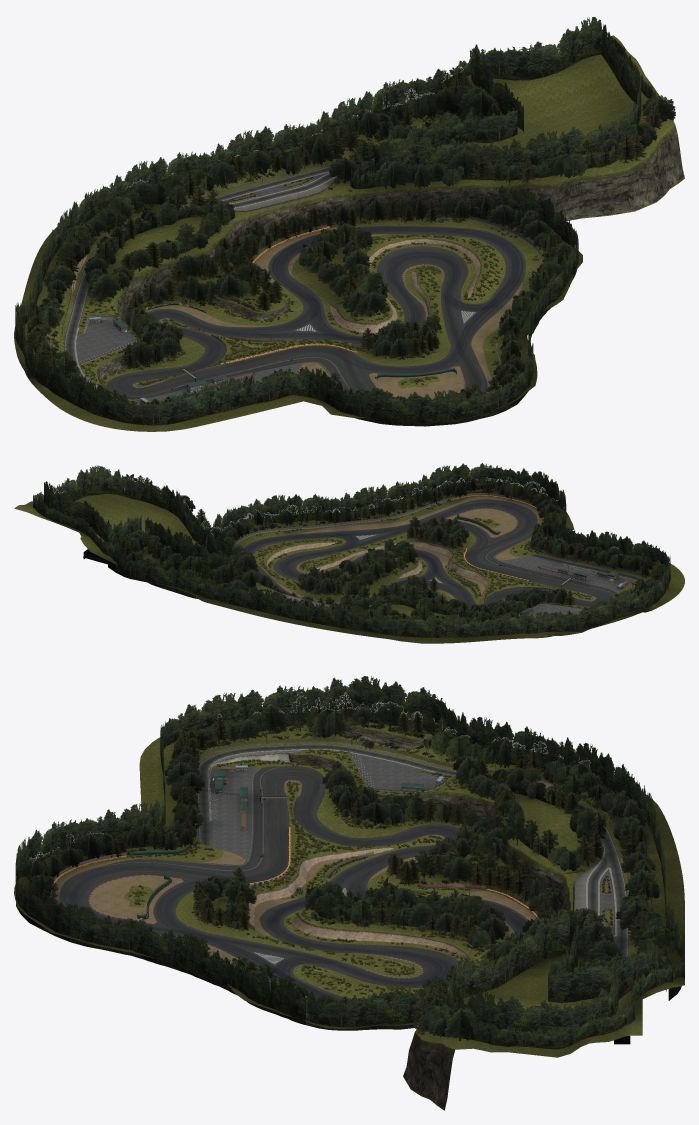
File: track.glb
The picture shows the model from 3 angles, top to bottom: view 1: azimuth 30°, elevation 25°; view 2: azimuth 150°, elevation 25°; view 3: azimuth 270°, elevation 25°; orthographic projection. The views are drawn at different scales.
Parts seen in each view (by area): view 1: cougarct17_DFF, cougarct09_DFF.grass, cougarct11_DFF, cougarct09_DFF, cougarct10_DFF, cougarct13_DFF.skid, cougarct08_DFF, cougarct11_DFF.sand, cougarct00_DFF, cougarct01_DFF, cougarct06_DFF, cougarct13_DFF (+1 smaller); view 2: cougarct17_DFF, cougarct09_DFF.grass, cougarct10_DFF, cougarct13_DFF.skid, cougarct11_DFF.sand, cougarct08_DFF, cougarct11_DFF, cougarct09_DFF, cougarct14_DFF, cougarct12_DFF, cougarct00_DFF, cougarct06_DFF (+1 smaller); view 3: cougarct17_DFF, cougarct09_DFF.grass, cougarct10_DFF, cougarct09_DFF, cougarct13_DFF.skid, cougarct11_DFF, cougarct08_DFF, cougarct11_DFF.sand, cougarct00_DFF, cougarct14_DFF, cougarct13_DFF, cougarct01_DFF.
Boxes of the visible parts, bbox=[...] form: cougarct17_DFF: bbox=[15, 17, 675, 426]; cougarct09_DFF.grass: bbox=[14, 35, 674, 431]; cougarct11_DFF: bbox=[251, 87, 684, 302]; cougarct09_DFF: bbox=[14, 187, 338, 366]; cougarct10_DFF: bbox=[25, 311, 488, 406]; cougarct13_DFF.skid: bbox=[112, 226, 522, 392]; cougarct08_DFF: bbox=[388, 264, 526, 383]; cougarct11_DFF.sand: bbox=[144, 226, 523, 399]; cougarct00_DFF: bbox=[218, 318, 456, 379]; cougarct01_DFF: bbox=[89, 238, 289, 340]; cougarct06_DFF: bbox=[171, 358, 292, 393]; cougarct13_DFF: bbox=[60, 182, 288, 362]; cougarct17_DFF: bbox=[33, 463, 670, 638]; cougarct09_DFF.grass: bbox=[14, 481, 684, 643]; cougarct10_DFF: bbox=[406, 499, 647, 612]; cougarct13_DFF.skid: bbox=[245, 502, 609, 608]; cougarct11_DFF.sand: bbox=[279, 496, 543, 614]; cougarct08_DFF: bbox=[269, 503, 463, 562]; cougarct11_DFF: bbox=[83, 537, 356, 606]; cougarct09_DFF: bbox=[304, 572, 588, 632]; cougarct14_DFF: bbox=[414, 492, 649, 592]; cougarct12_DFF: bbox=[257, 493, 473, 540]; cougarct00_DFF: bbox=[414, 495, 544, 592]; cougarct06_DFF: bbox=[499, 564, 588, 588]; cougarct17_DFF: bbox=[15, 676, 682, 1049]; cougarct09_DFF.grass: bbox=[14, 710, 684, 1057]; cougarct10_DFF: bbox=[58, 710, 351, 932]; cougarct09_DFF: bbox=[351, 726, 627, 925]; cougarct13_DFF.skid: bbox=[64, 769, 526, 1002]; cougarct11_DFF: bbox=[351, 896, 630, 1110]; cougarct08_DFF: bbox=[99, 924, 351, 1003]; cougarct11_DFF.sand: bbox=[49, 839, 540, 998]; cougarct00_DFF: bbox=[50, 823, 351, 919]; cougarct14_DFF: bbox=[50, 737, 351, 898]; cougarct13_DFF: bbox=[351, 740, 629, 914]; cougarct01_DFF: bbox=[351, 776, 542, 919].
Size of the model in its own units: 676 by 115 by 480.
100 materials, 100 textured.
